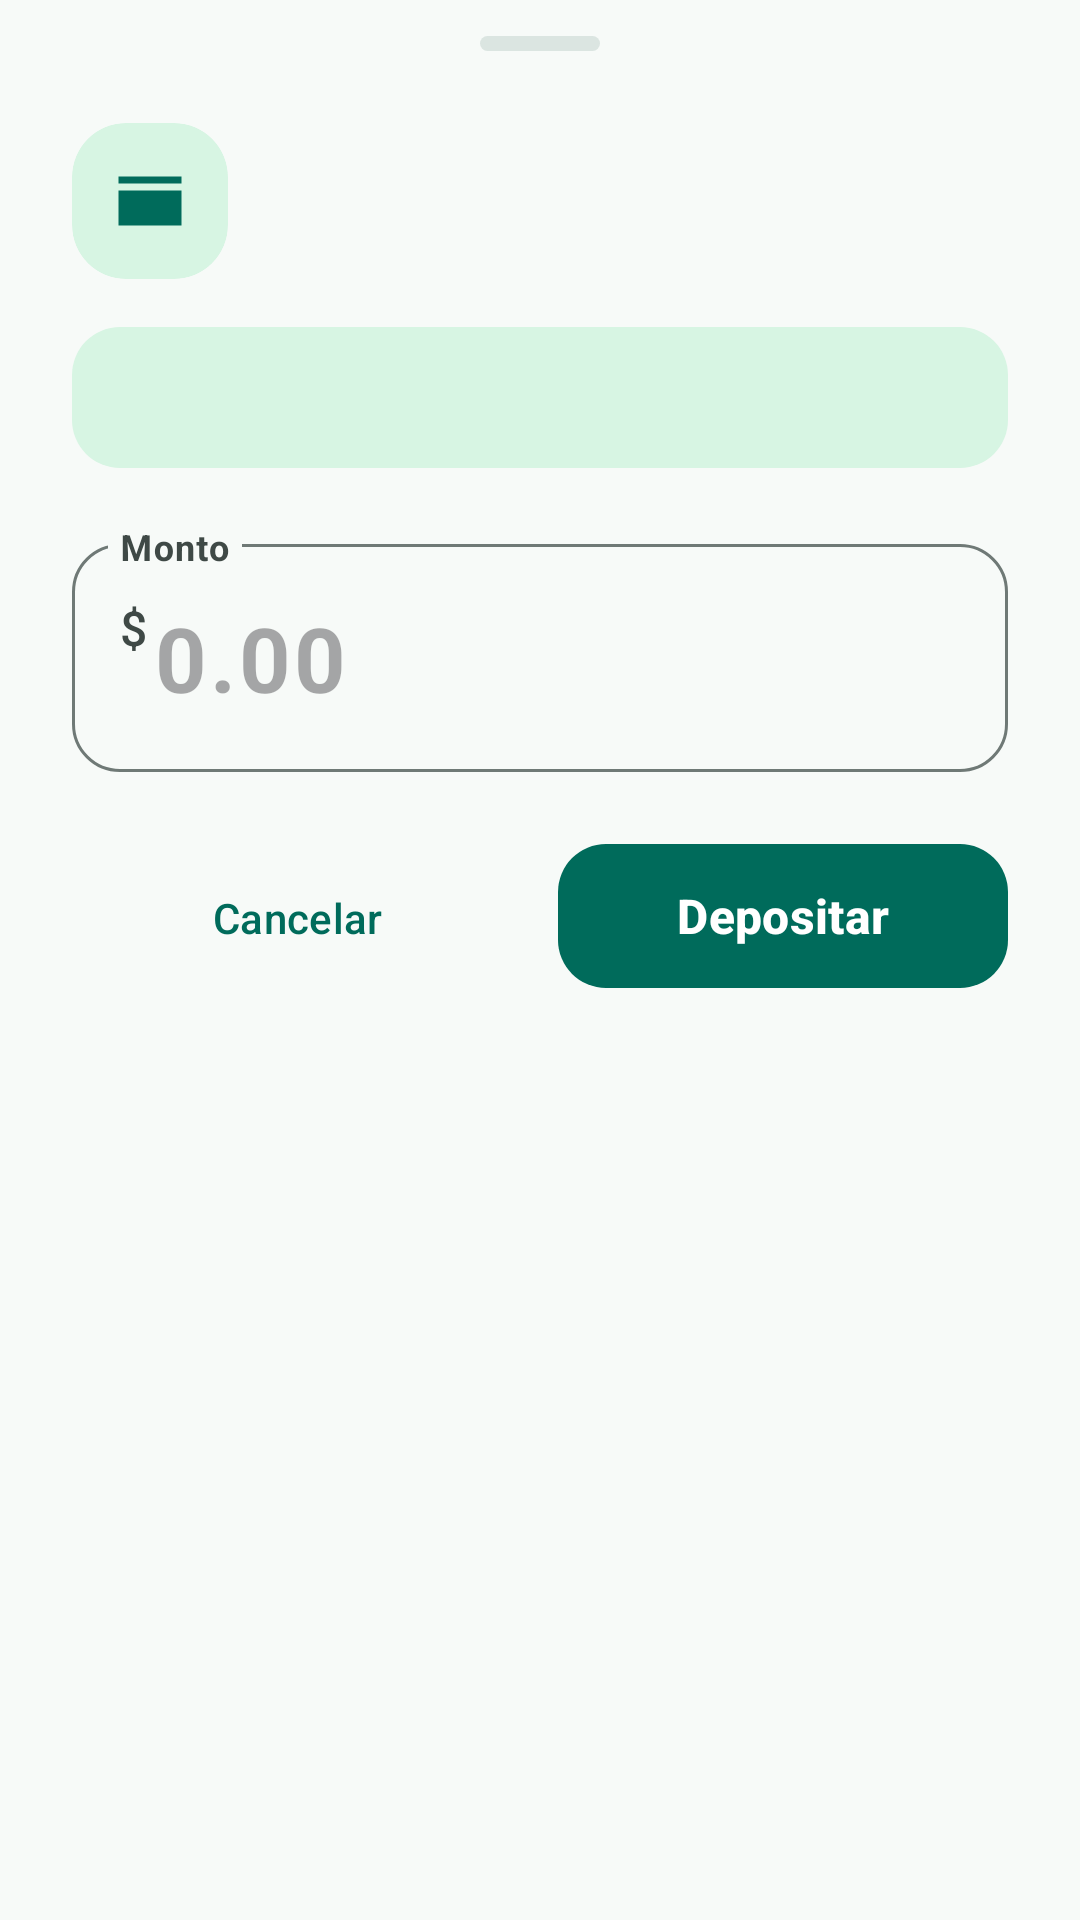

Named icons in this screenshot (1080x1920) and their bounding boxes, detection(x1, y1, x2, y2):
wallet: detection(118, 176, 182, 226)
